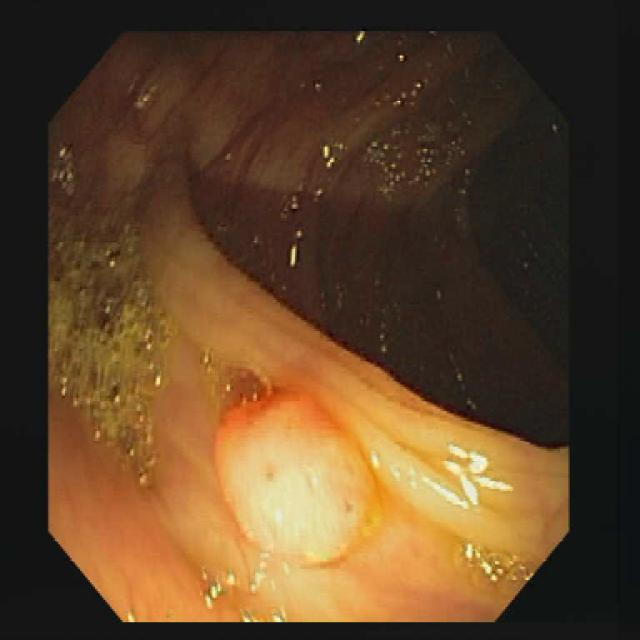tumor: (213, 369, 380, 567)
